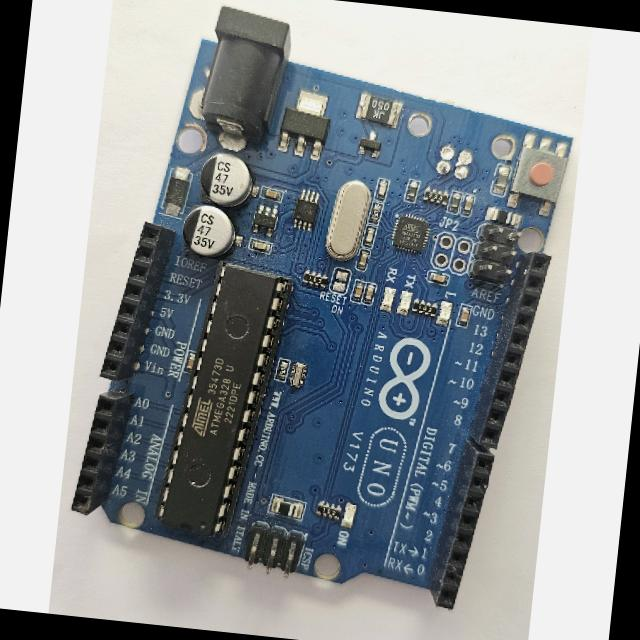missing_usb: (392, 94, 505, 196)
